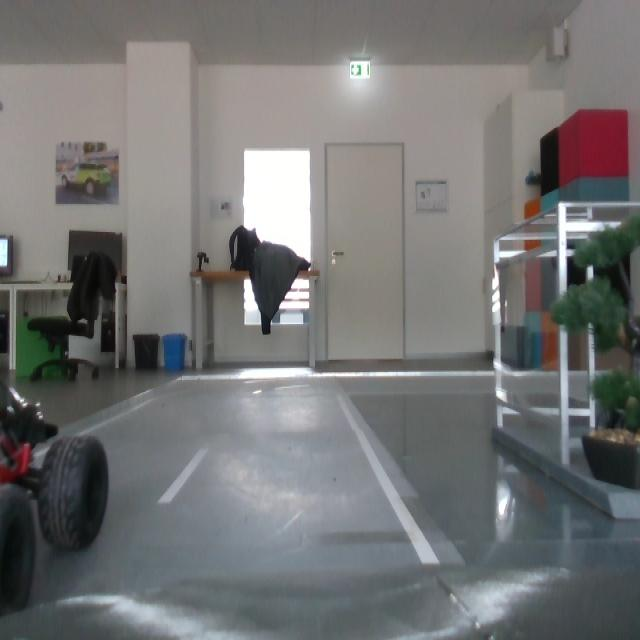car: (1, 362, 110, 610)
potted plant: (549, 216, 640, 434)
